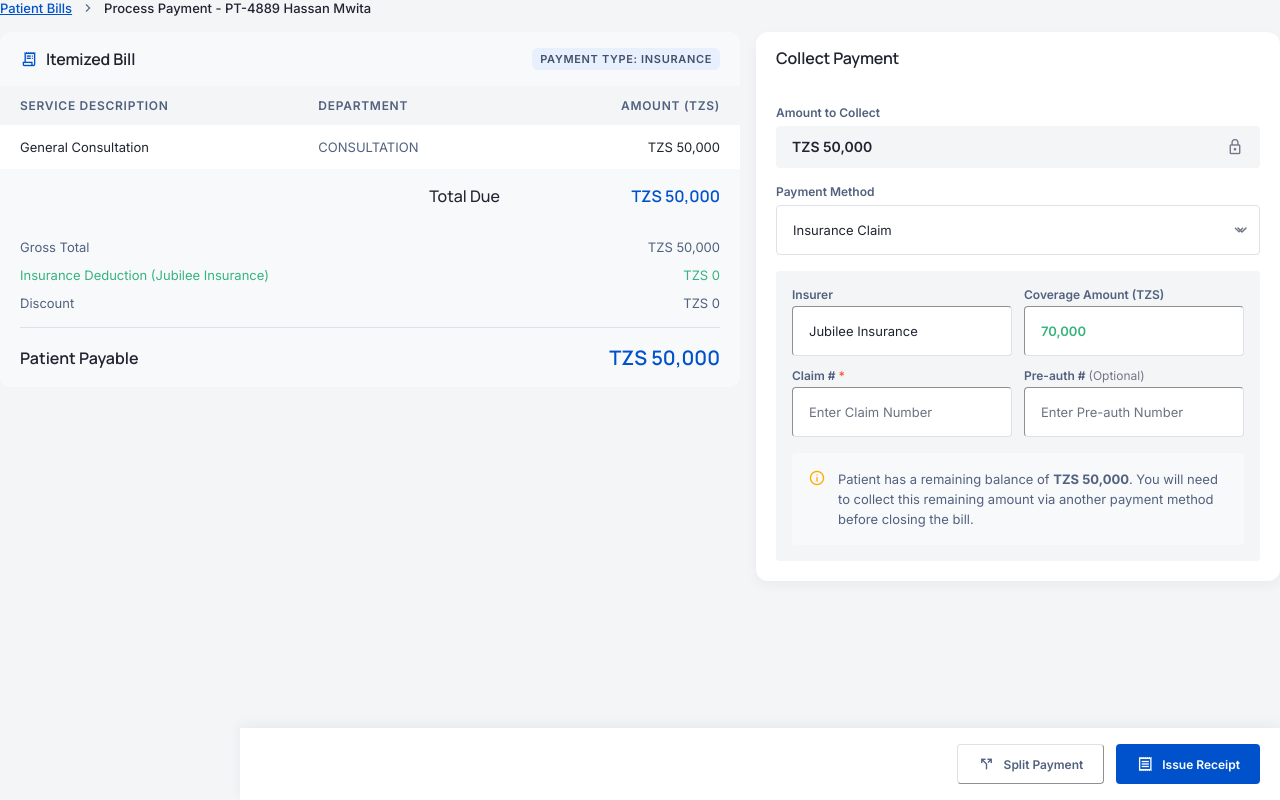
Test case: ProcessingPaymentPage › issues a receipt after a successful cash payment
Select "Cash" in the dropdown labelled "Payment Method" at coordinates (1018, 230), box [776,205,1260,255]
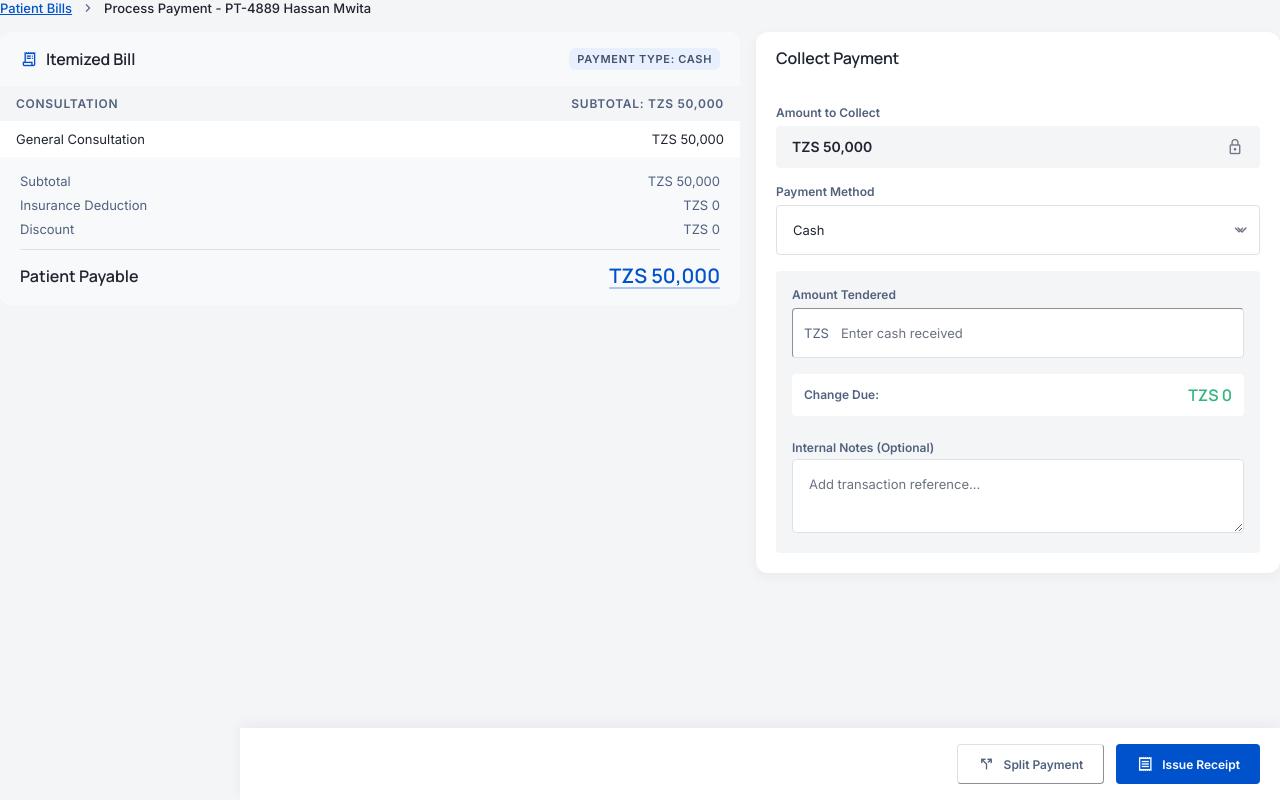
Type "150000" into the number field with placeholder "Enter cash received" at coordinates (1018, 333), box [792,308,1244,358]
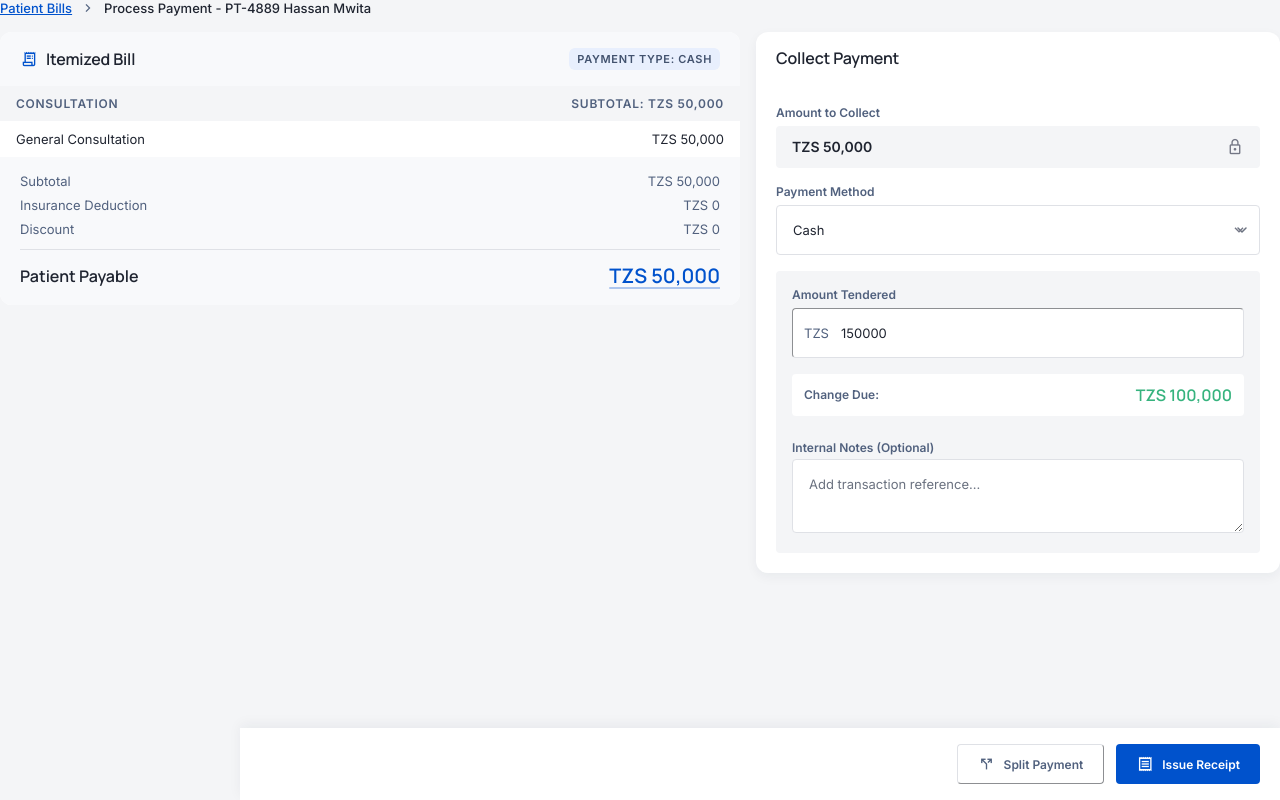
Click the button "Issue Receipt" at coordinates (1188, 764), box [1116,744,1260,784]
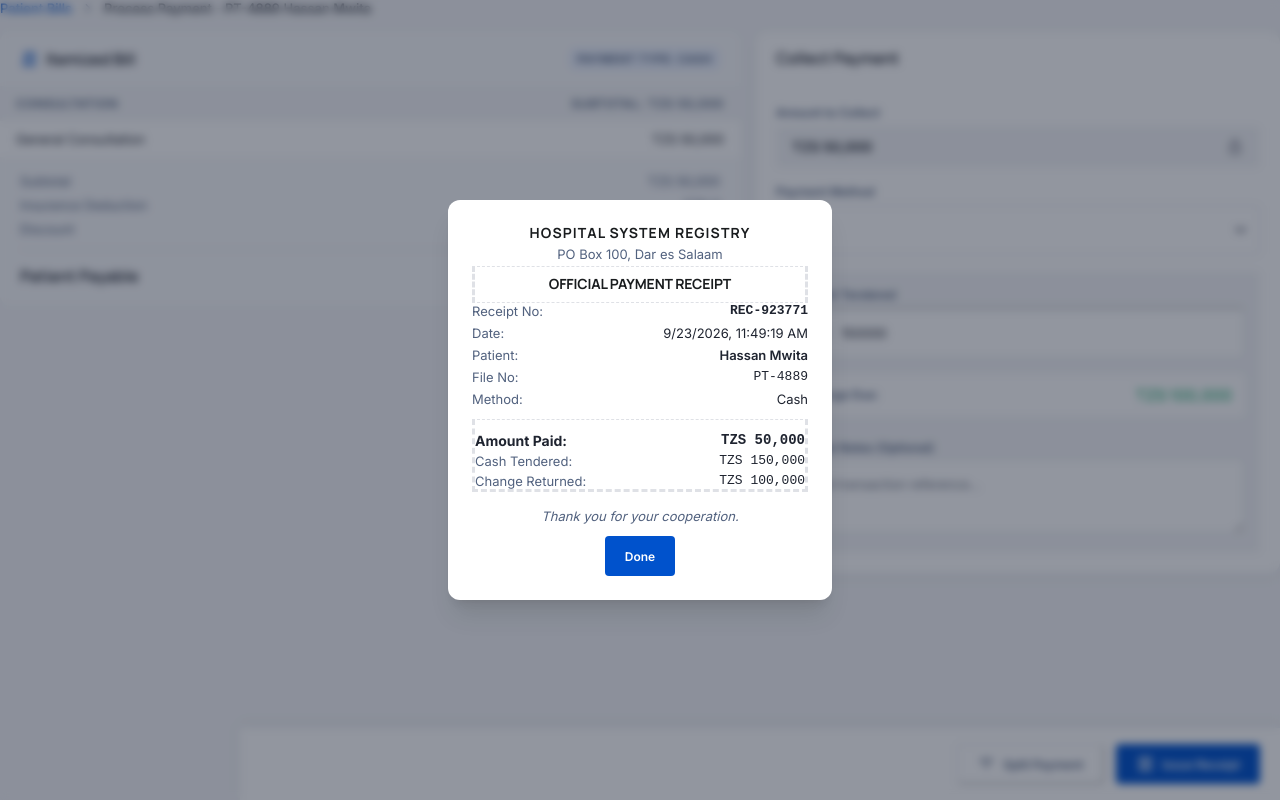
expect the heading "OFFICIAL PAYMENT RECEIPT" is shown: met, box [472,266,808,303]
expect the button "Done" is shown: met, box [605,536,675,576]
